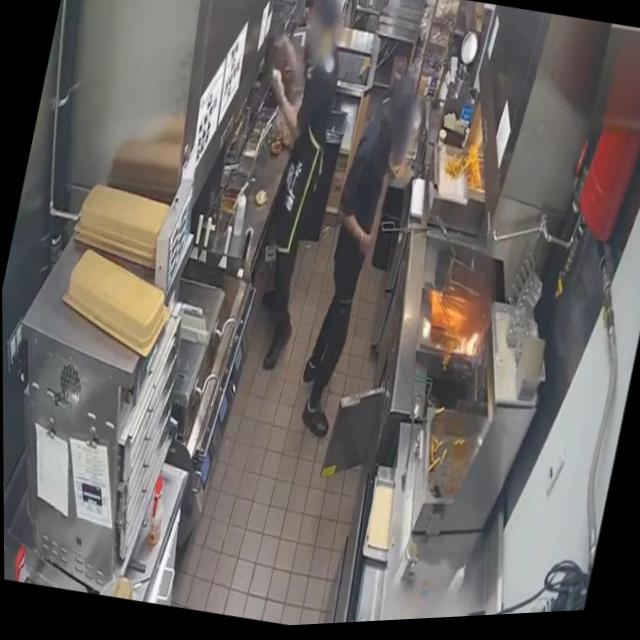fire: (452, 327, 485, 366)
